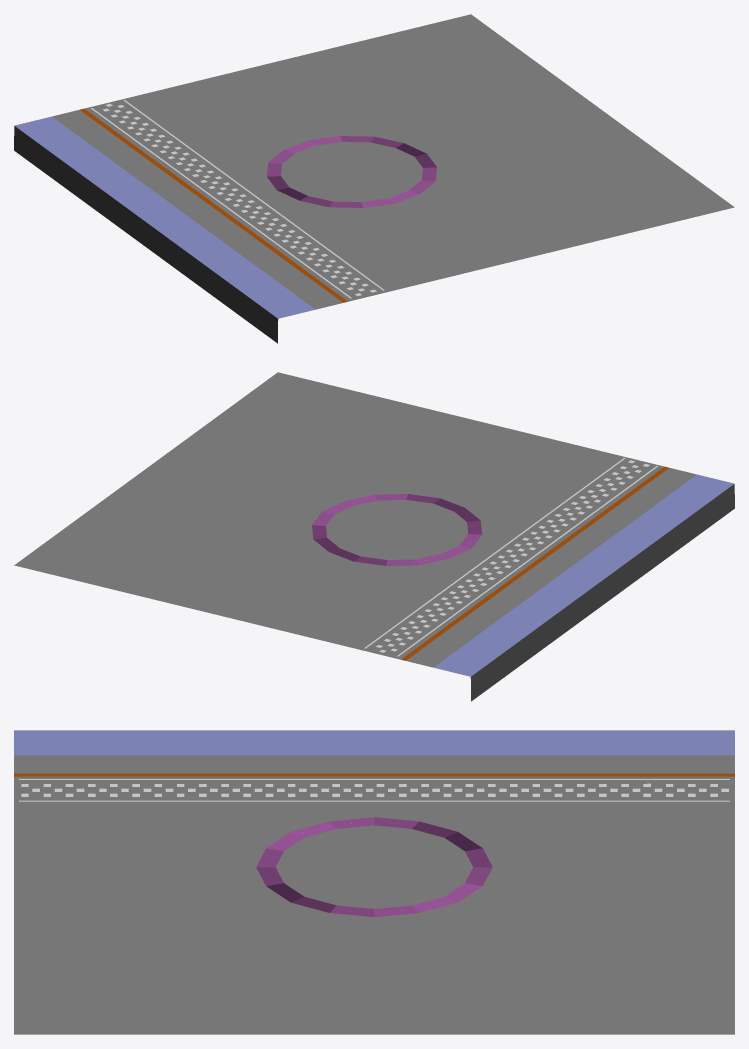
File: W_M_maze_002_EnBottom_L1.fbx
3 views of the same model, one above another, from view 1: azimuth 30°, elevation 25°; view 2: azimuth 150°, elevation 25°; view 3: azimuth 270°, elevation 25° (orthographic). The views are drawn at different scales.
Parts seen in each view (by area): view 1: W_M_maze_002_EnBottom_L1; view 2: W_M_maze_002_EnBottom_L1; view 3: W_M_maze_002_EnBottom_L1.
Boxes of the visible parts, bbox=[...] form: W_M_maze_002_EnBottom_L1: bbox=[14, 14, 734, 343]; W_M_maze_002_EnBottom_L1: bbox=[14, 372, 734, 701]; W_M_maze_002_EnBottom_L1: bbox=[14, 730, 734, 1034].
Bounding box in the file's own units: 4 × 0.2134 × 4.
